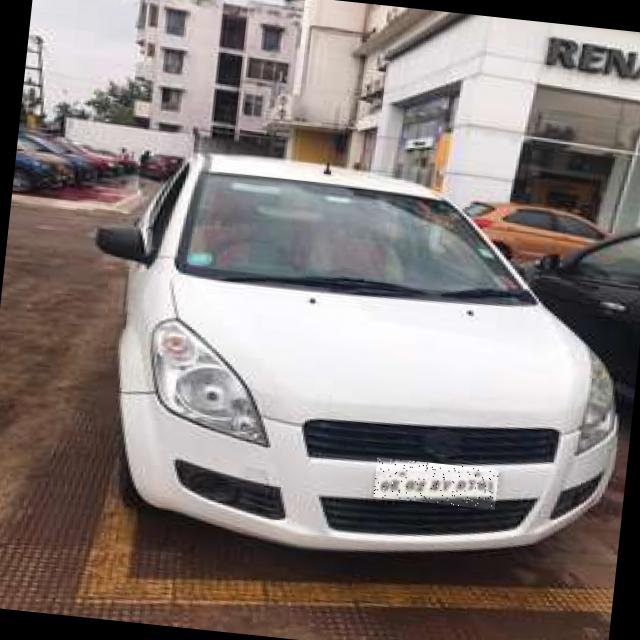Plate: (374, 458, 500, 511)
